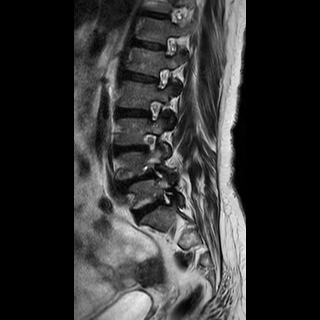RFS0: (138, 124, 164, 158), (150, 61, 175, 93), (144, 93, 167, 124)
